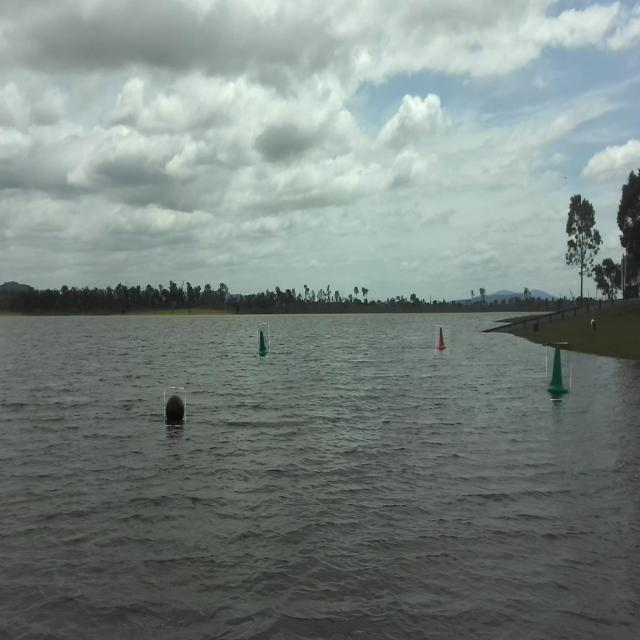Black_Buoy: (163, 389, 189, 429)
Green_Buoy: (549, 345, 568, 397), (257, 322, 269, 358)
Red_Buoy: (436, 326, 451, 355)
